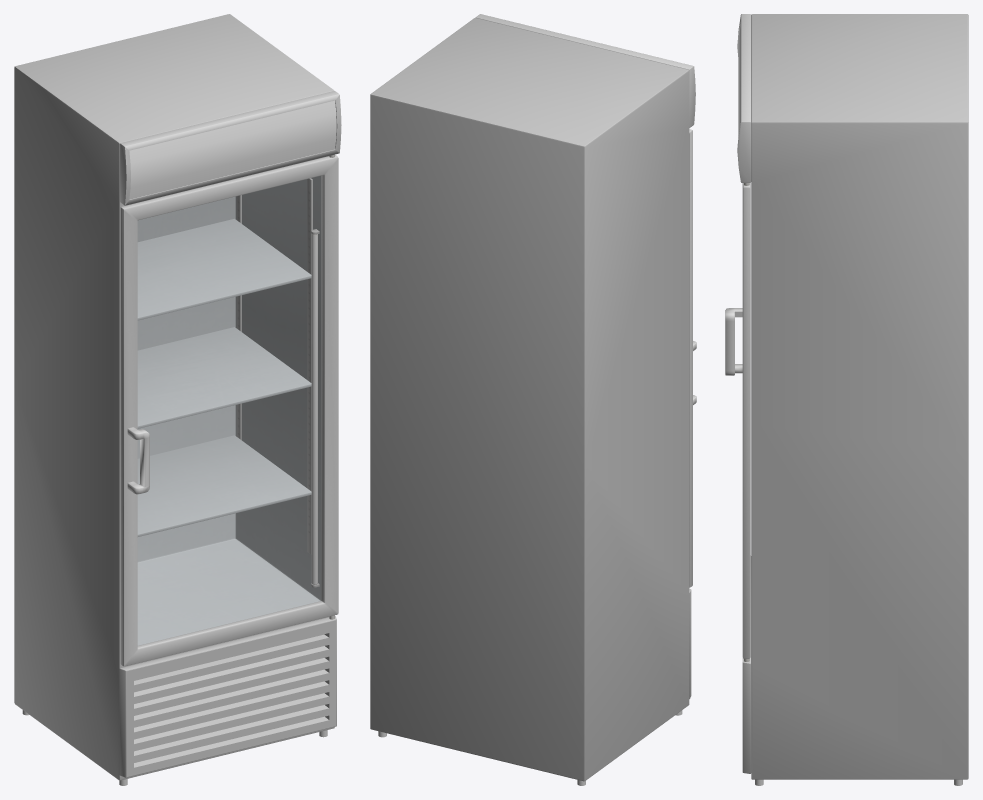
The model's file is Refrigerator02.FBX.
3 renders of one model, left to right at view 1: azimuth 30°, elevation 25°; view 2: azimuth 150°, elevation 25°; view 3: azimuth 270°, elevation 25°, orthographic. The views are drawn at different scales.
Parts seen in each view (by area): view 1: Refrigerator02, Refrigerator02Glass, Refrigerator02Door; view 2: Refrigerator02, Refrigerator02Door; view 3: Refrigerator02, Refrigerator02Door.
Part boxes in pixels (x1=…): Refrigerator02: x1=14, y1=14, x2=341, y2=785; Refrigerator02Glass: x1=138, y1=176, x2=322, y2=645; Refrigerator02Door: x1=120, y1=155, x2=338, y2=666; Refrigerator02: x1=370, y1=14, x2=695, y2=785; Refrigerator02Door: x1=689, y1=129, x2=696, y2=587; Refrigerator02: x1=737, y1=14, x2=968, y2=785; Refrigerator02Door: x1=725, y1=183, x2=750, y2=658.
Bounding box in the file's own units: 70.51 × 201 × 66.71.
